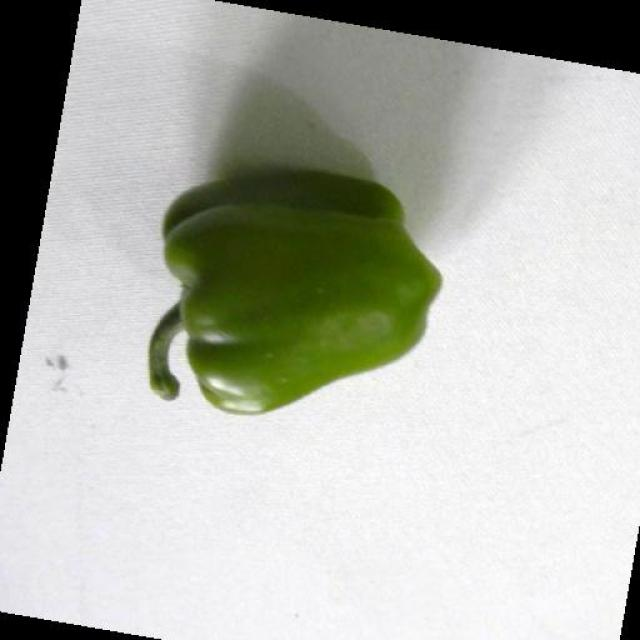Fresh_Capsicum: (159, 182, 427, 406)
